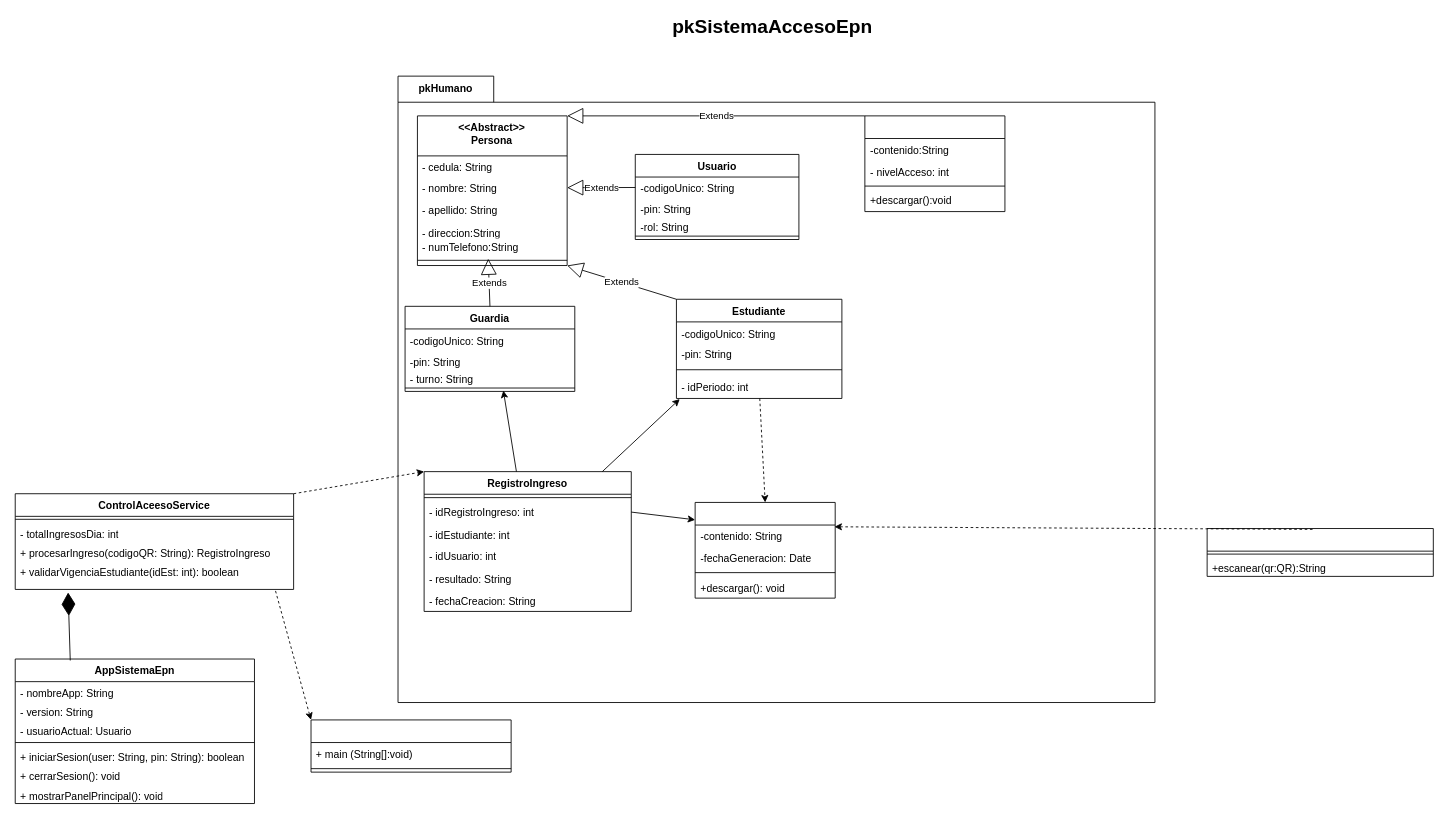
The diagram is 1449 pixels wide and 821 high, and some of its shapes have lost their labels. The shapes that lost their labels are listed below. From the top down, each one's box as (x1, y1, x2, y2) in pixels, then its label:
(864, 115, 1005, 212): Admin
(694, 502, 835, 598): QR
(1206, 528, 1433, 576): DispositivoExterno
(310, 719, 511, 772): App
